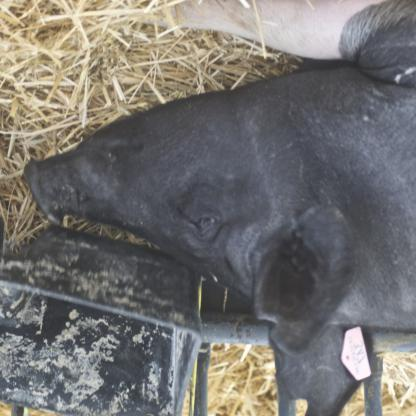boar: (23, 0, 416, 416)
